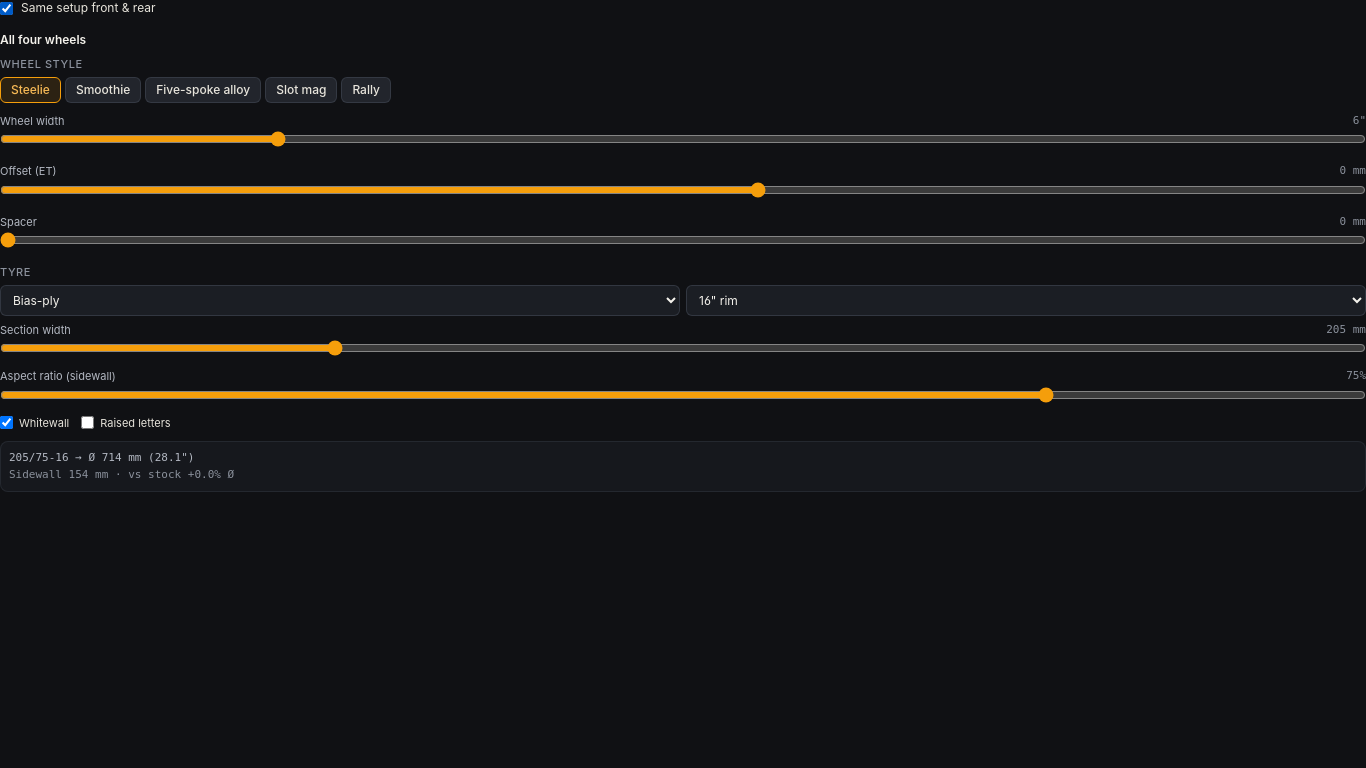
Test case: WheelsTab › unlinking exposes an independent rear axle editor
Later steps or results of the test are not shown.
Click the checkbox labelled "Same setup front & rear" at (6, 8), box [0, 2, 13, 14]
(page scrolled)
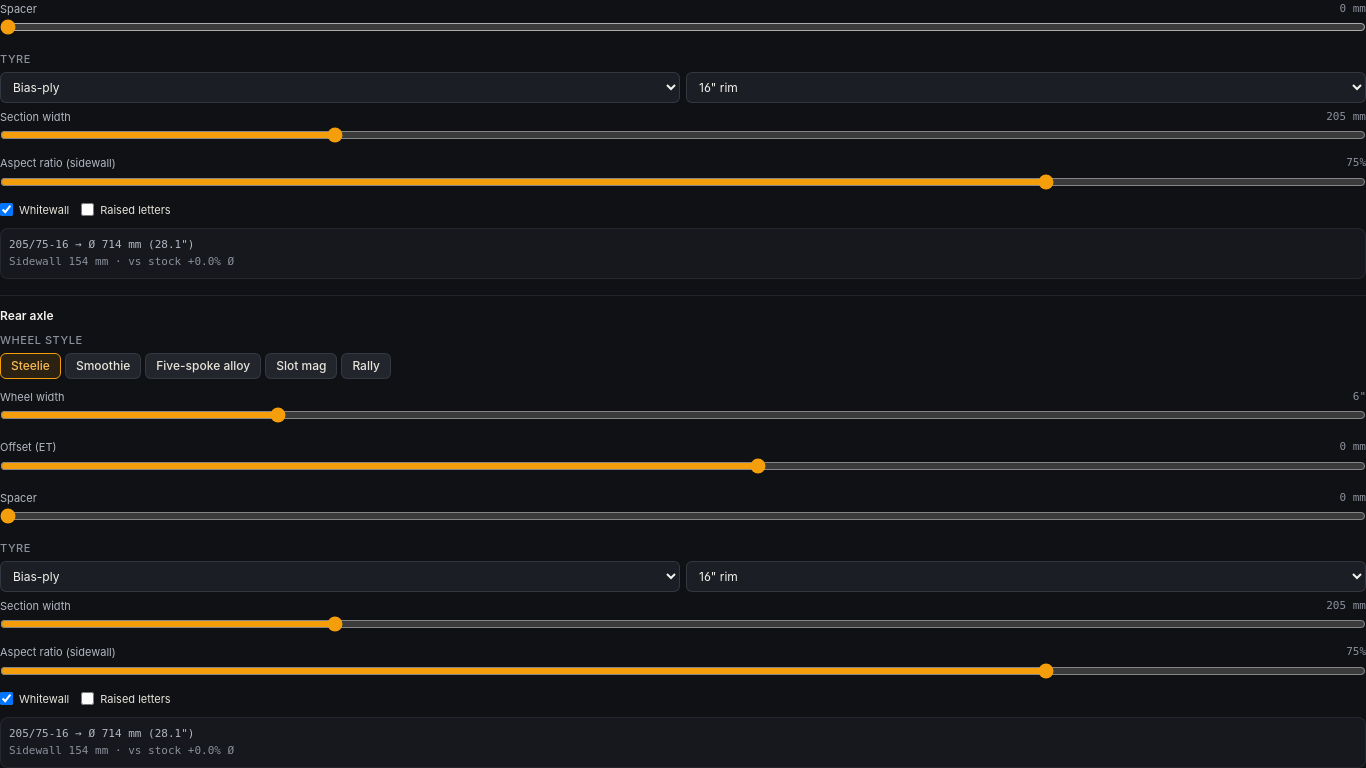
Check: the heading "Rear axle" is shown, box [0, 308, 54, 323]
